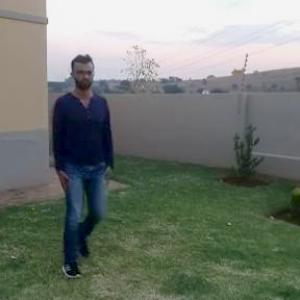follow: (48, 56, 110, 241)
